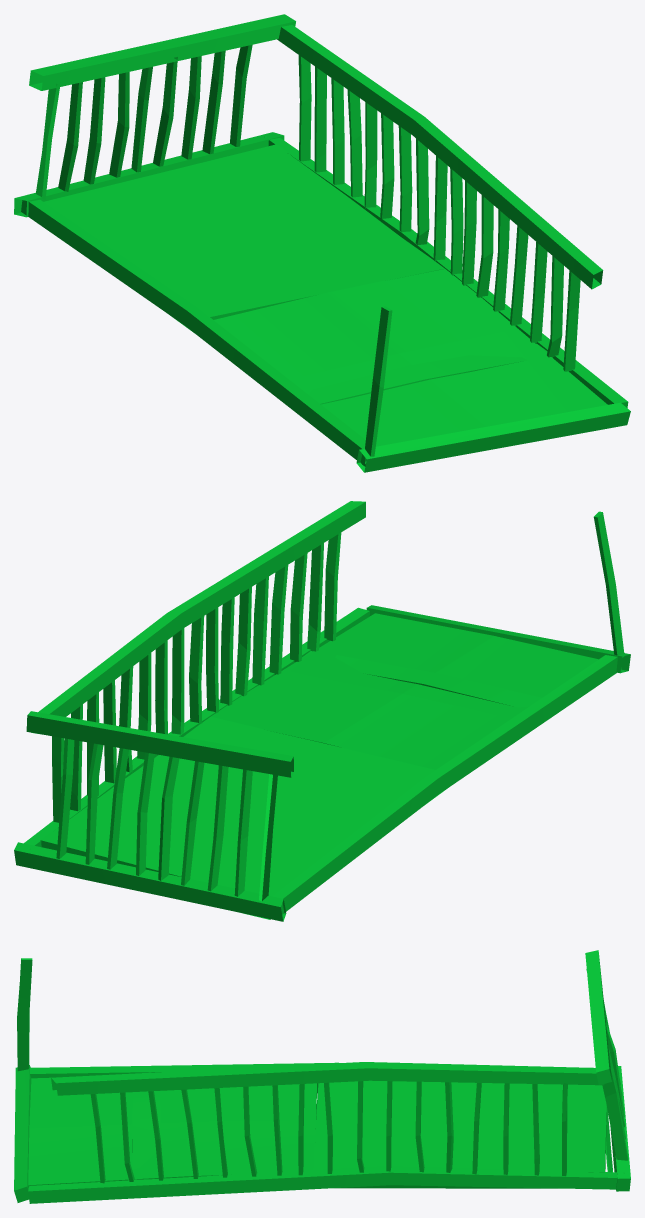
File: SM_SmallLodge_Balcony.fbx
The picture shows the model from 3 angles, top to bottom: view 1: azimuth 30°, elevation 25°; view 2: azimuth 150°, elevation 25°; view 3: azimuth 270°, elevation 25°; orthographic projection. The views are drawn at different scales.
Visible parts, largest first — view 1: SM_ST_SmallLodge01.mo; view 2: SM_ST_SmallLodge01.mo; view 3: SM_ST_SmallLodge01.mo.
Boxes of the visible parts, x1,y1,x2,y2 form: SM_ST_SmallLodge01.mo: (14,14,630,472); SM_ST_SmallLodge01.mo: (14,501,630,921); SM_ST_SmallLodge01.mo: (14,950,630,1203).
Bounding box in the file's own units: 234 × 542 × 144.
